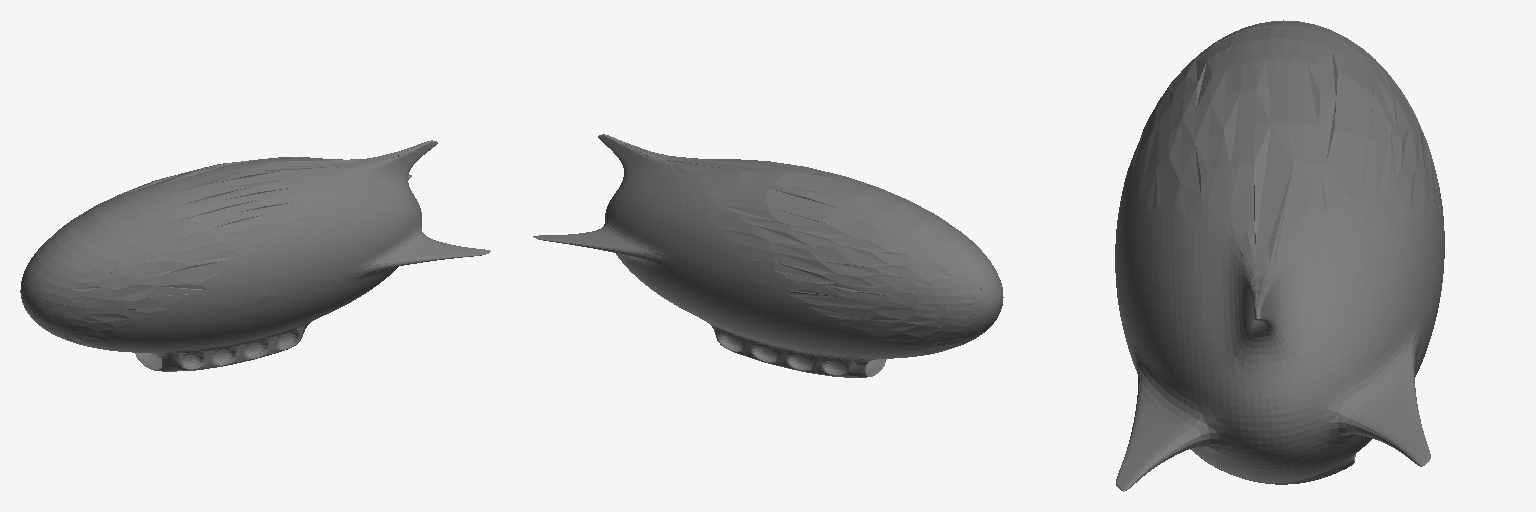
URDF robot description (airplane):
<?xml version="1.0" ?>
<robot name="airplane">
  <link name="world"/>
  <link name="empty_link_x"/>
  <link name="empty_link_y"/>
  <link name="empty_link_z"/>
  <link name="empty_link_yaw"/>
  <link name="empty_link_pitch"/>
  <link name="body">
    <collision>
      <origin xyz="0 0 0" rpy="0 0 0"/>
      <geometry>
        <mesh scale="0.1 0.1 0.1" filename="meshes/zeppelin.stl"/>
      </geometry>
       <material name="grey">
        <color rgba="0.5 0.5 0.5 0.5"/>
      </material>
    </collision>
    <visual>
      <origin xyz="0 0 0" rpy="0 0 0"/>
      <geometry>
        <mesh scale="0.1 0.1 0.1" filename="meshes/zeppelin.stl"/>
      </geometry>
       <material name="grey">
        <color rgba="0.5 0.5 0.5 0.5"/>
      </material>
    </visual>
    <inertial>
      <mass value="10"/>
      <inertia ixx="1e-6" ixy="0.0" ixz="0.0" iyy="0.083" iyz="0.0" izz="0.083"/>
    </inertial>
  </link>
  <joint name="joint_translation_x" type="prismatic">
    <origin xyz="-0.0 -0.0 0" rpy="0 0 0"/>
    <axis xyz="1 0 0"/>
    <parent link="world"/>
    <child link="empty_link_x"/>
    <limit effort="1" lower="-1.5" upper="1.5" velocity="1"/>
  </joint>
  <joint name="joint_translation_y" type="prismatic">
    <origin xyz="0 0 0" rpy="0 0 0"/>
    <axis xyz="0 1 0"/>
    <parent link="empty_link_x"/>
    <child link="empty_link_y"/>
    <limit effort="1" lower="-1.5" upper="1.5" velocity="1"/>
  </joint>
  <joint name="joint_translation_z" type="prismatic">
    <origin xyz="0 0 0" rpy="0 0 0"/>
    <axis xyz="0 0 1"/>
    <parent link="empty_link_y"/>
    <child link="empty_link_z"/>
    <limit effort="1" lower="-0.5" upper="1.5" velocity="1"/>
  </joint>
  <joint name="joint_translation_yaw" type="revolute">
    <origin xyz="0 0 0" rpy="0 0 0"/>
    <axis xyz="0 0 1"/>
    <parent link="empty_link_z"/>
    <child link="empty_link_yaw"/>
    <limit effort="100" lower="-3.1415" upper="3.1415" velocity="1"/>
  </joint>
  <joint name="joint_translation_pitch" type="revolute">
    <origin xyz="0 0 0" rpy="0 0 0"/>
    <axis xyz="0 1 0"/>
    <parent link="empty_link_yaw"/>
    <child link="empty_link_pitch"/>
    <limit effort="100" lower="-3.1415" upper="3.1415" velocity="1"/>
  </joint>
  <joint name="joint_translation_roll" type="revolute">
    <origin xyz="0 0 0" rpy="0 -1.75 0"/>
    <axis xyz="1 0 0"/>
    <parent link="empty_link_pitch"/>
    <child link="body"/>
    <limit effort="100" lower="-3.1415" upper="3.1415" velocity="1"/>
  </joint>
</robot>

--- What the picture shows (computed from the rendered views, not written in the file) ---
Views: 3 orthographic renders of the robot side by side, from view 1: azimuth 30°, elevation 25°; view 2: azimuth 150°, elevation 25°; view 3: azimuth 270°, elevation 25°.
Model airplane with 7 links and 6 joints (3 revolute, 3 prismatic), rooted at world, posed every joint at zero.
Links seen in each view (by area): view 1: body; view 2: body; view 3: body.
Boxes of the visible links, x1,y1,x2,y2 form: body: (20,140,490,371); body: (533,134,1003,377); body: (1115,20,1444,491).
Bounding box of the posed robot: 0.2162 × 0.0796 × 0.0887 m (x, y, z).
1 mesh visuals loaded from 1 distinct referenced files (1 binary STL).
